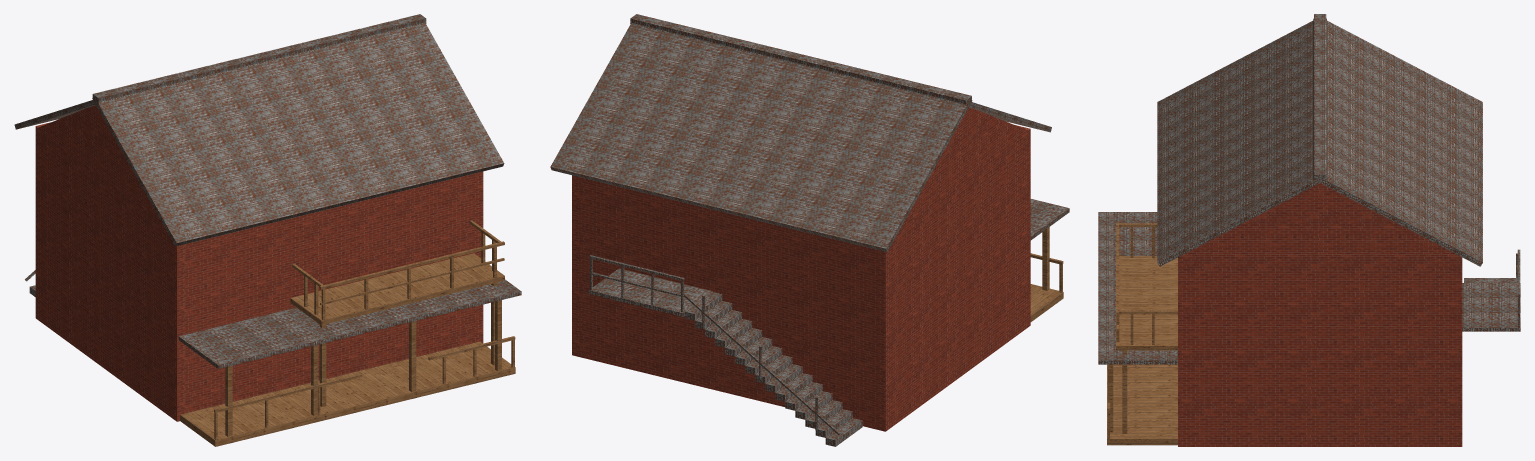
The model's file is house_tactical.glb.
3 views of the same model, side by side, from view 1: azimuth 30°, elevation 25°; view 2: azimuth 150°, elevation 25°; view 3: azimuth 270°, elevation 25° (orthographic). The views are drawn at different scales.
Parts seen in each view (by area): view 1: HouseTactical; view 2: HouseTactical; view 3: HouseTactical.
Part boxes in pixels (bbox=[...]): HouseTactical: bbox=[14, 14, 521, 446]; HouseTactical: bbox=[550, 14, 1069, 446]; HouseTactical: bbox=[1098, 14, 1520, 446].
Size of the model in its own units: 10.7 by 8.63 by 11.9.
7 materials, 5 textured.
